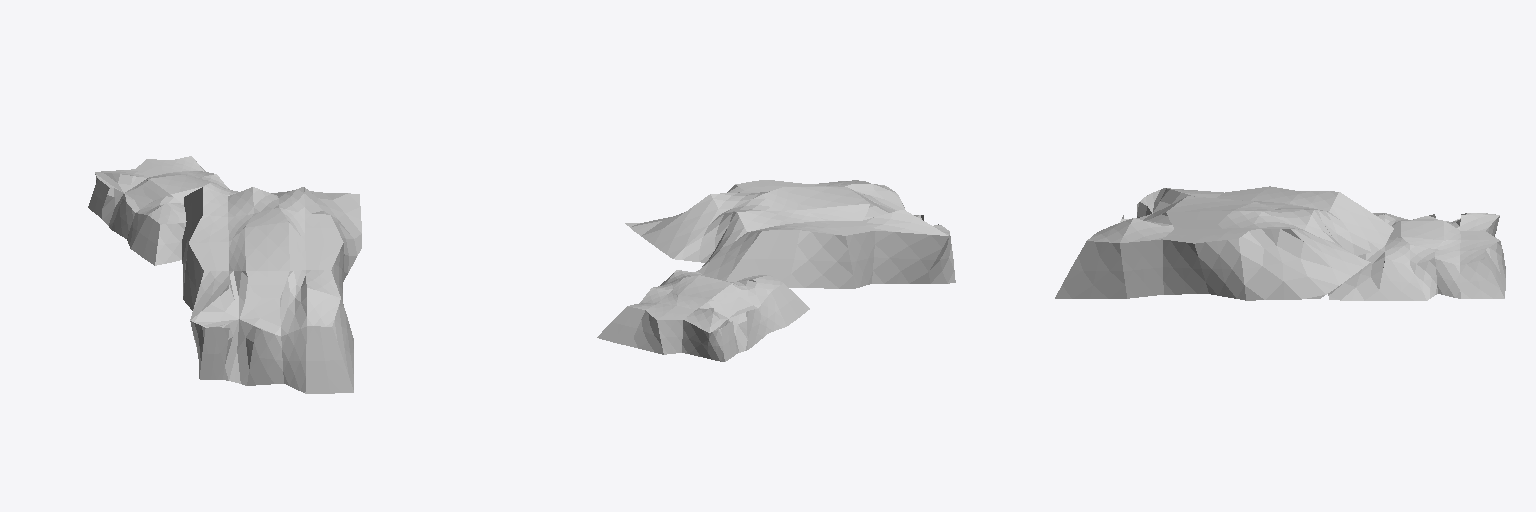
Rendered from bigstones2.obj.
3 views of the same model, side by side, from view 1: azimuth 30°, elevation 25°; view 2: azimuth 150°, elevation 25°; view 3: azimuth 270°, elevation 25° (orthographic).
Parts seen in each view (by area): view 1: pCube55; view 2: pCube55; view 3: pCube55.
Boxes of the visible parts, x1,y1,x2,y2 form: pCube55: [88, 156, 361, 393]; pCube55: [597, 180, 955, 361]; pCube55: [1055, 186, 1505, 300].
Size of the model in its own units: 8.4 by 3.46 by 13.29.